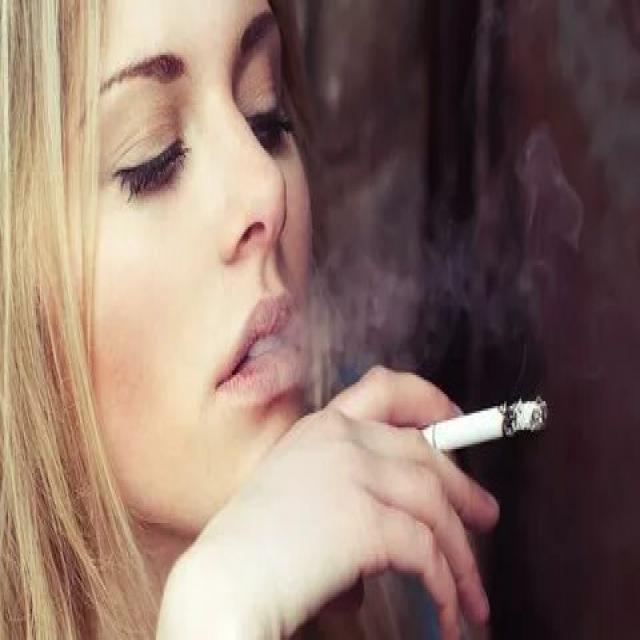smoke: (416, 394, 556, 459)
